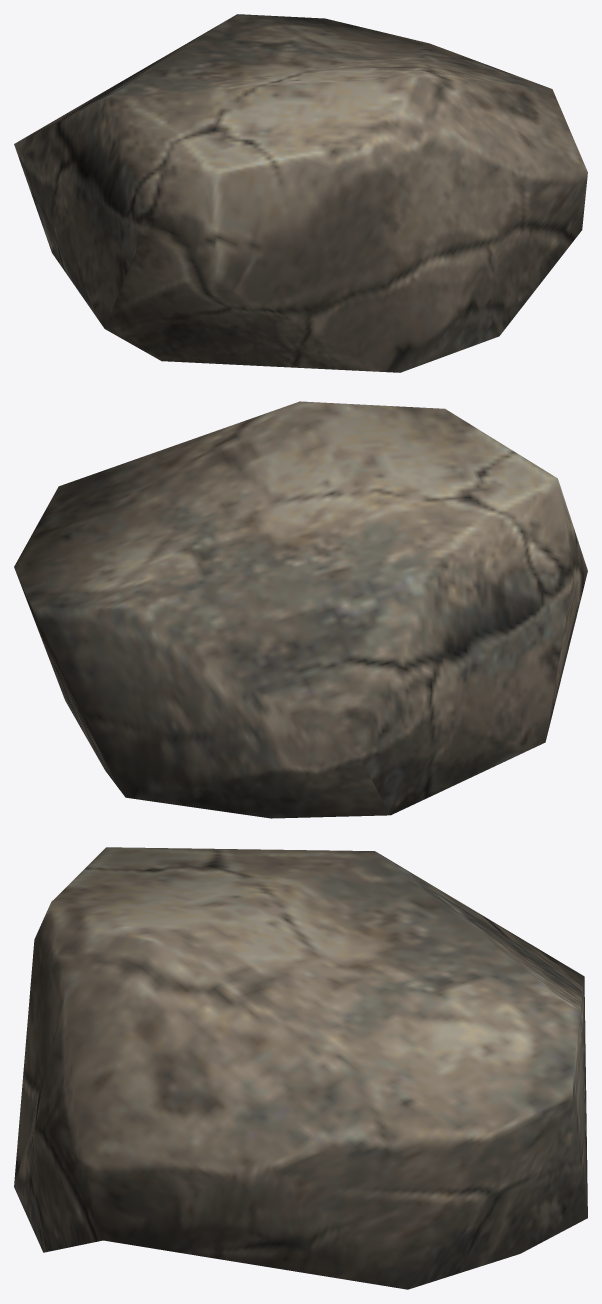
The model's file is SC_yonghengsenlin_shitou04.FBX.
The picture shows the model from 3 angles, top to bottom: view 1: azimuth 30°, elevation 25°; view 2: azimuth 150°, elevation 25°; view 3: azimuth 270°, elevation 25°; orthographic projection. The views are drawn at different scales.
Parts seen in each view (by area): view 1: SC_yonghengsenlin_shitou04; view 2: SC_yonghengsenlin_shitou04; view 3: SC_yonghengsenlin_shitou04.
Part boxes in pixels (<box>): SC_yonghengsenlin_shitou04: <box>14,14,587,372</box>; SC_yonghengsenlin_shitou04: <box>14,401,587,818</box>; SC_yonghengsenlin_shitou04: <box>14,847,587,1289</box>.
Size of the model in its own units: 234 by 125 by 211.
